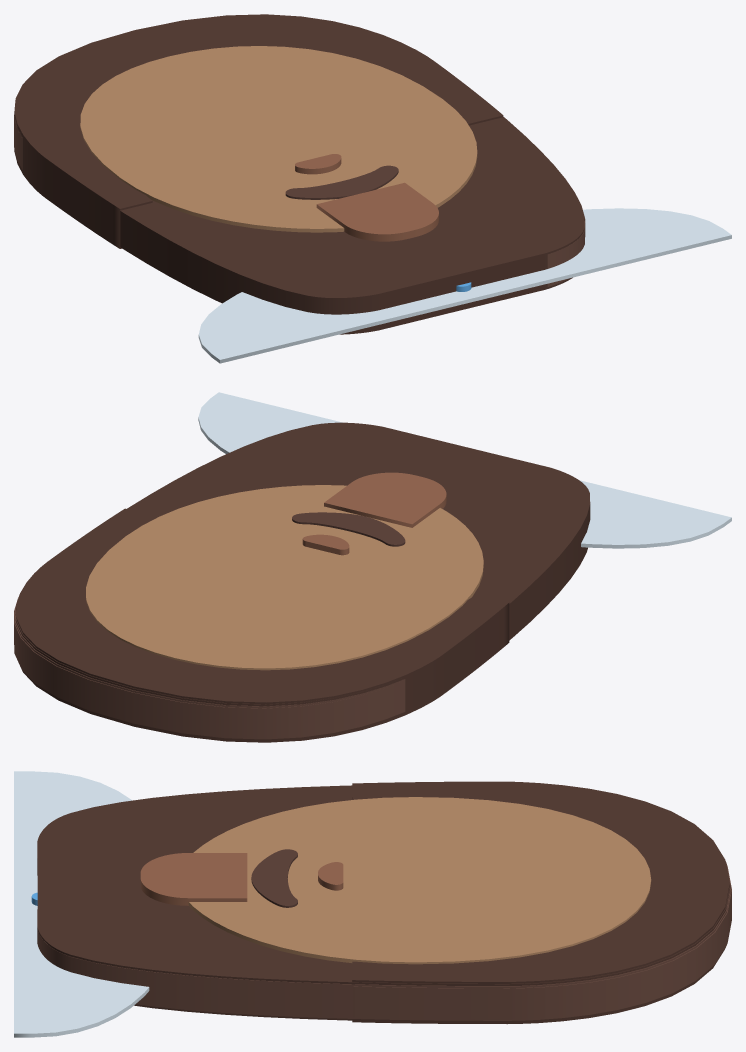
Rendered from emoji_u1f469_1f3fd_200d_1f4bc.glb.
3 views of the same model, one above another, from view 1: azimuth 30°, elevation 25°; view 2: azimuth 150°, elevation 25°; view 3: azimuth 270°, elevation 25° (orthographic). The views are drawn at different scales.
Visible parts, largest first — view 1: emoji_u1f469_1f3fd_200d_1f4bc; view 2: emoji_u1f469_1f3fd_200d_1f4bc; view 3: emoji_u1f469_1f3fd_200d_1f4bc.
Part boxes in pixels (x1,y1,x2,y2): emoji_u1f469_1f3fd_200d_1f4bc: [14, 14, 731, 363]; emoji_u1f469_1f3fd_200d_1f4bc: [14, 392, 731, 742]; emoji_u1f469_1f3fd_200d_1f4bc: [14, 771, 731, 1037].
Size of the model in its own units: 0.0294 by 0.003 by 0.0339.
